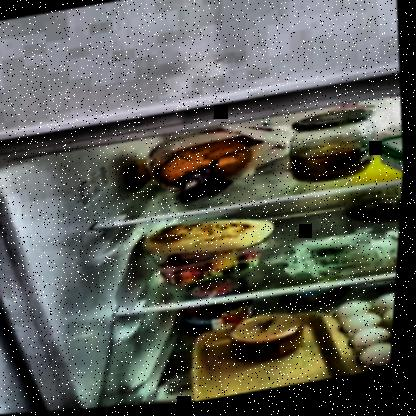eggs: (341, 297, 398, 373)
olives: (351, 191, 404, 233)
red_onion: (181, 168, 235, 205)
